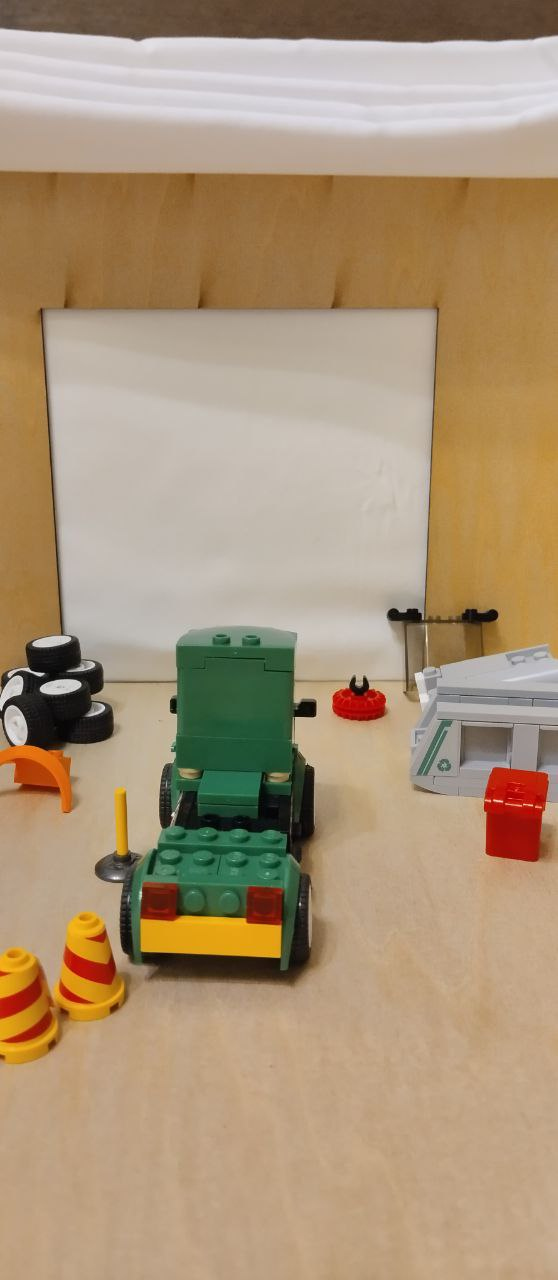Cone: (0, 938, 73, 1070), (56, 913, 138, 1029)
Object Red: (480, 752, 558, 872)
Truck: (104, 616, 331, 989)
